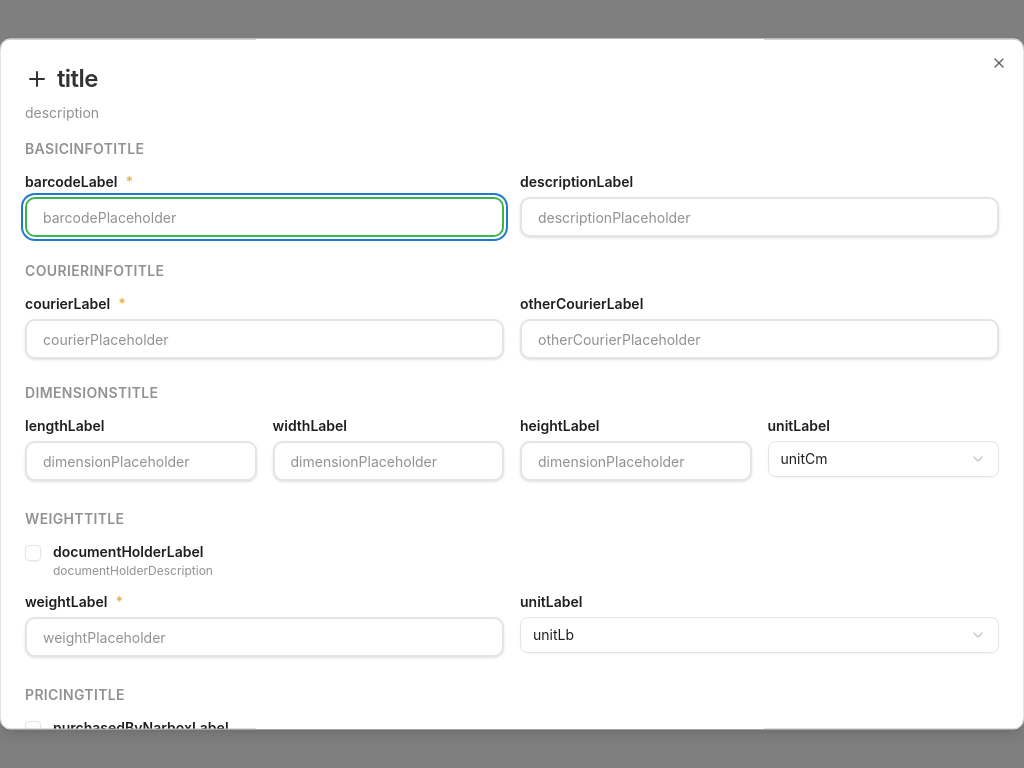
Test: AddPackageDialog › shows validation error when weight is empty on submit
Type "ABC123" into the field labelled "barcodeLabel *" at {"x": 264, "y": 217}, box [25,197,504,237]
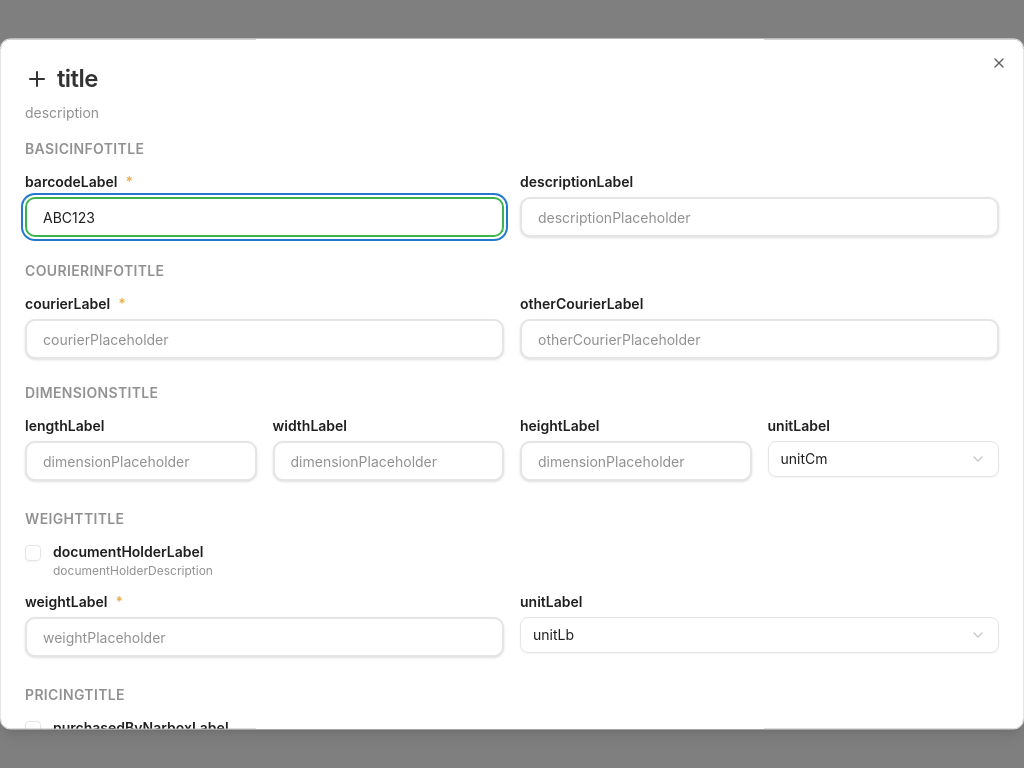
Type "FedEx" into the field labelled "courierLabel *" at {"x": 264, "y": 339}, box [25,319,504,359]
(page scrolled)
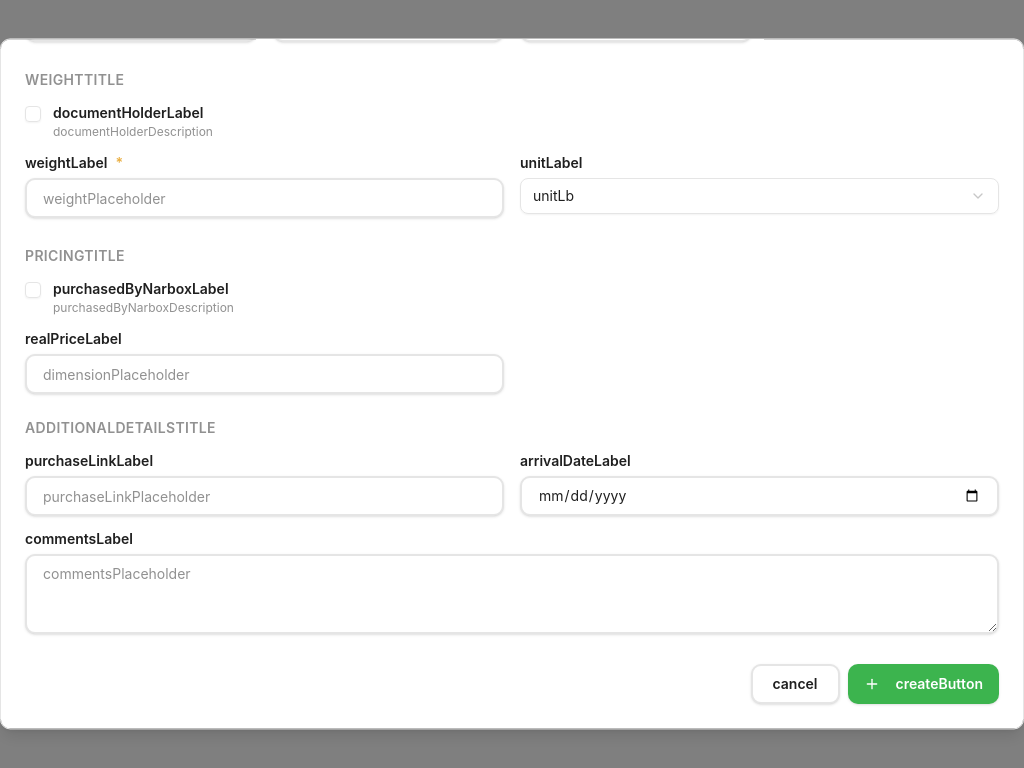
Click the button "createButton" at {"x": 923, "y": 684}, box [848,664,999,704]
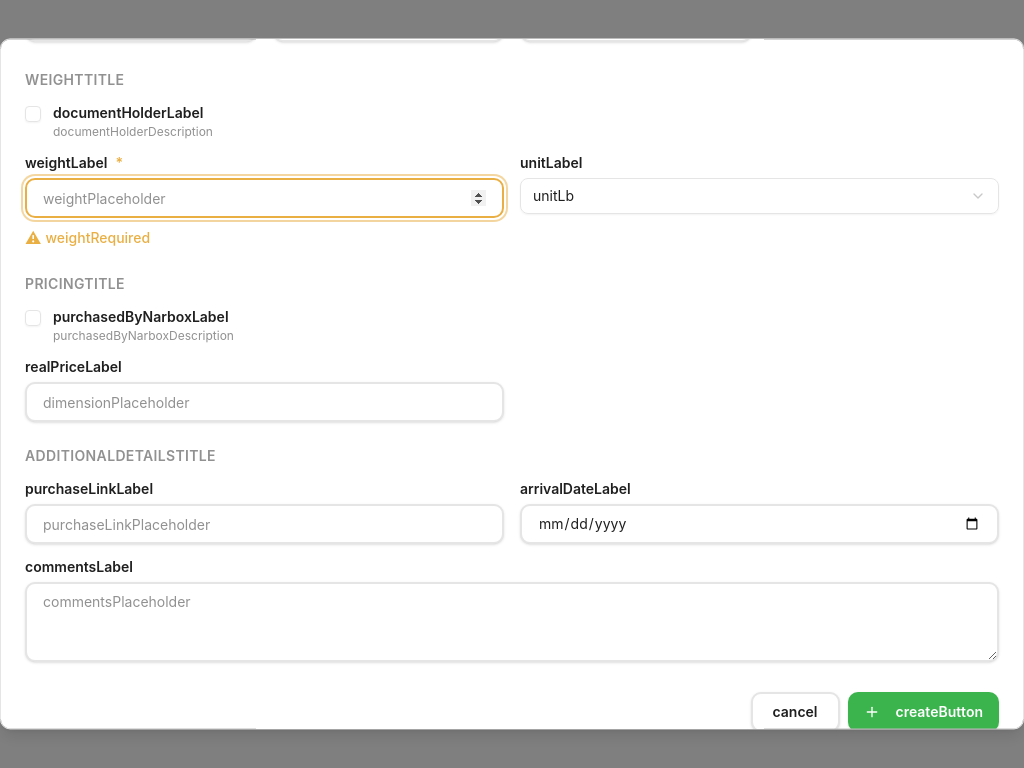
Check: the text "weightRequired" is shown, box [45,229,150,246]
